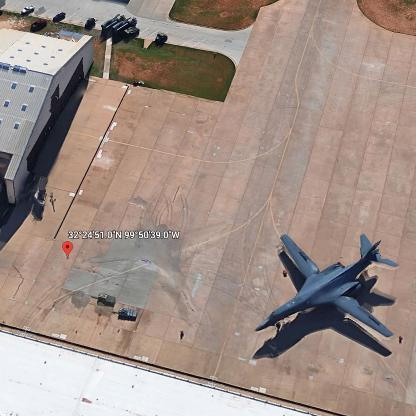AV8B: (254, 233, 398, 336)
